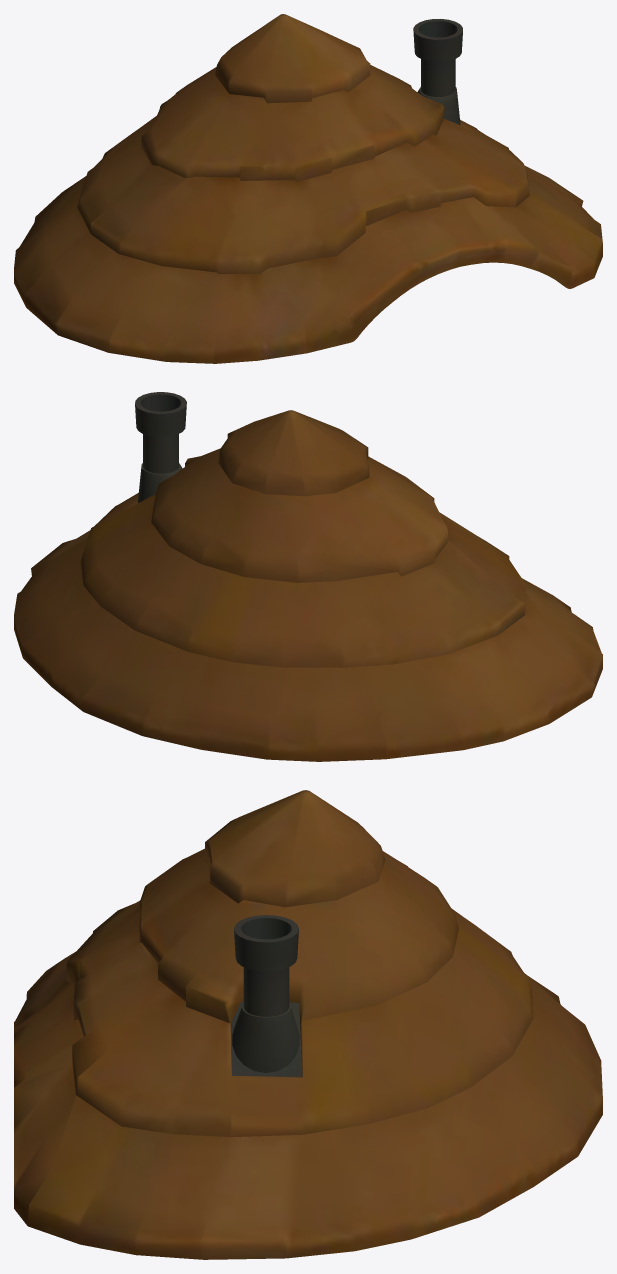
Rendered from roof-nd-wood.glb.
3 renders of one model, top to bottom at view 1: azimuth 30°, elevation 25°; view 2: azimuth 150°, elevation 25°; view 3: azimuth 270°, elevation 25°, orthographic. The views are drawn at different scales.
Size of the model in its own units: 40.14 by 17.29 by 30.29.
1 material, 1 textured.
